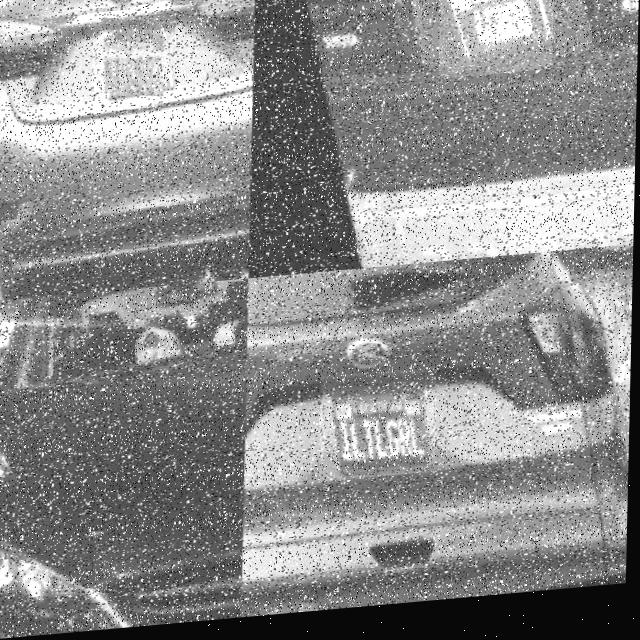LicensePlate: (321, 375, 439, 488), (439, 0, 555, 87), (92, 18, 173, 101)
